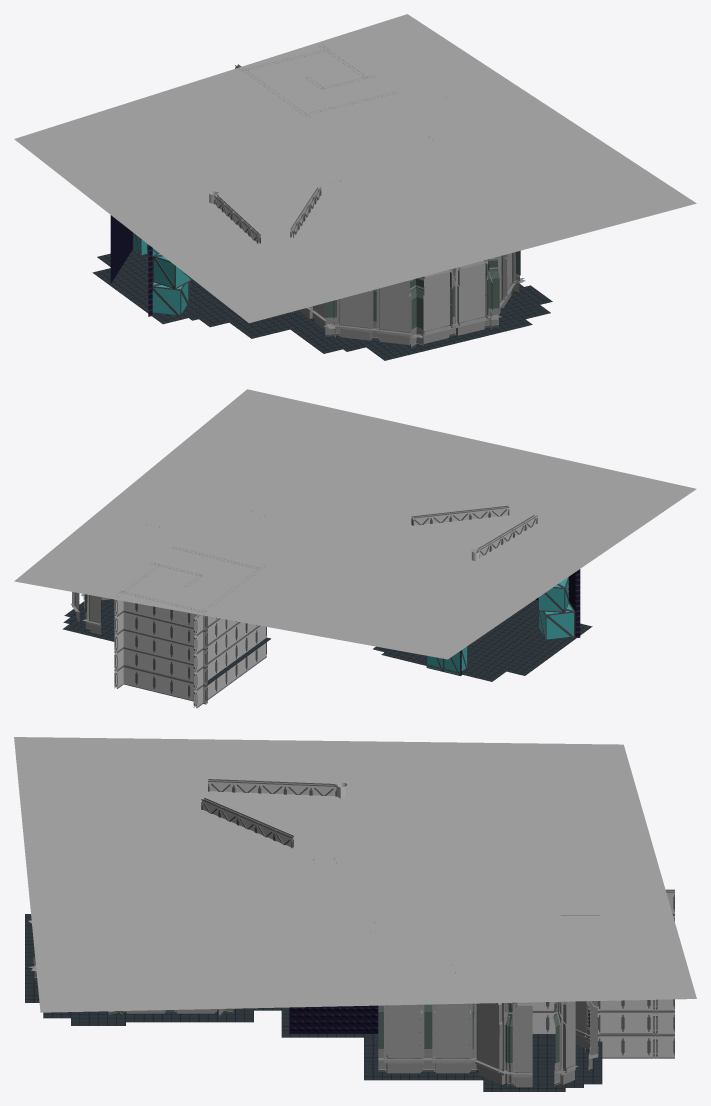
Rendered from Stage7 (1).fbx.
3 renders of one model, top to bottom at view 1: azimuth 30°, elevation 25°; view 2: azimuth 150°, elevation 25°; view 3: azimuth 270°, elevation 25°, orthographic. The views are drawn at different scales.
Parts seen in each view (by area): view 1: 1000, CantGrap.004, Floor.002; view 2: 1000, CantGrap.004, Floor.002; view 3: 1000, CantGrap.004, Floor.002.
Part boxes in pixels (<box>): 1000: <box>14,14,696,323</box>; CantGrap.004: <box>110,46,525,348</box>; Floor.002: <box>92,249,552,360</box>; 1000: <box>14,389,696,659</box>; CantGrap.004: <box>71,505,580,708</box>; Floor.002: <box>62,599,592,685</box>; 1000: <box>14,737,696,1012</box>; CantGrap.004: <box>28,779,674,1087</box>; Floor.002: <box>25,914,656,1091</box>.
Bounding box in the file's own units: 44356 × 9609 × 46435.
